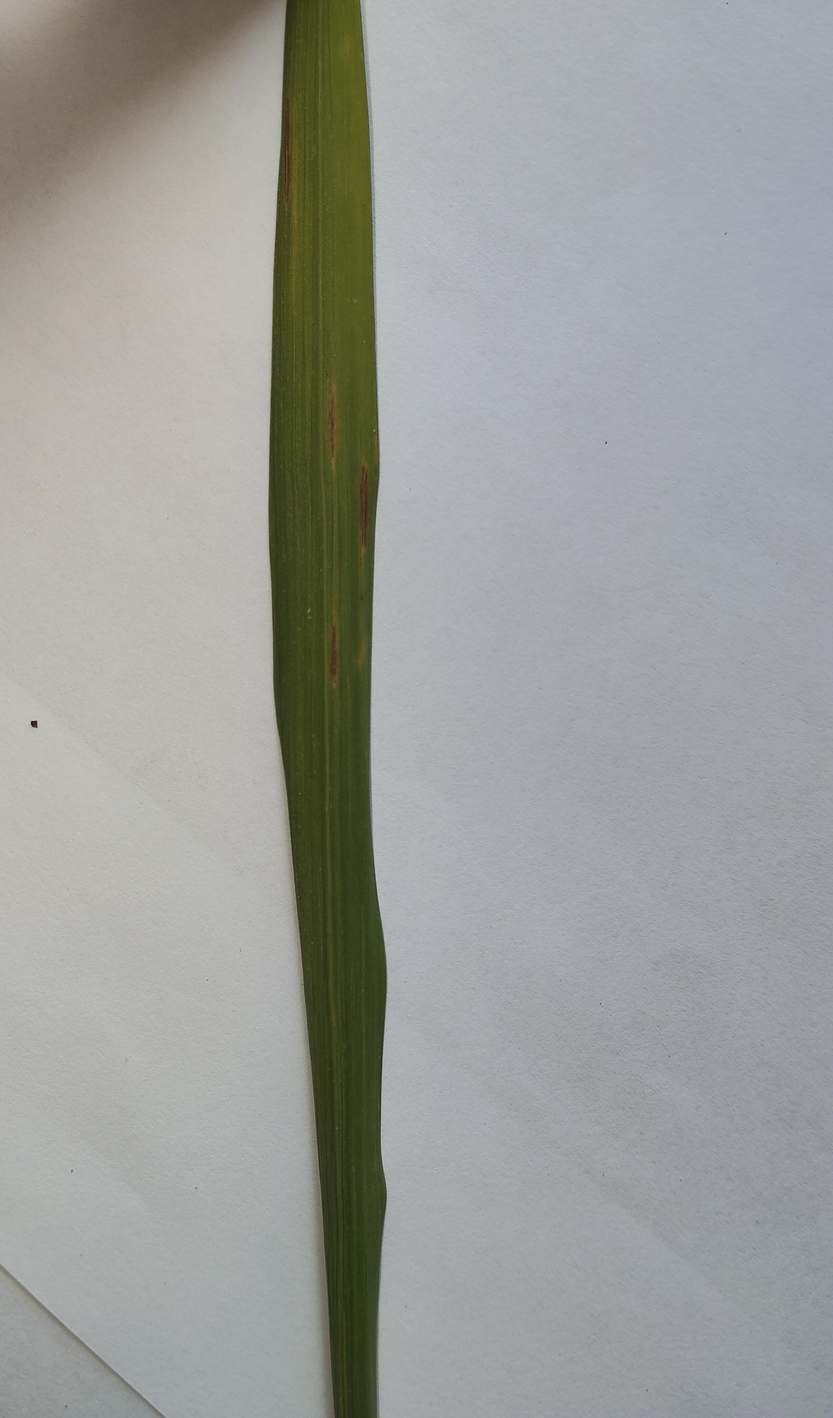NBS: (359, 463, 368, 549), (284, 99, 291, 204), (327, 388, 337, 461), (330, 622, 336, 676)
